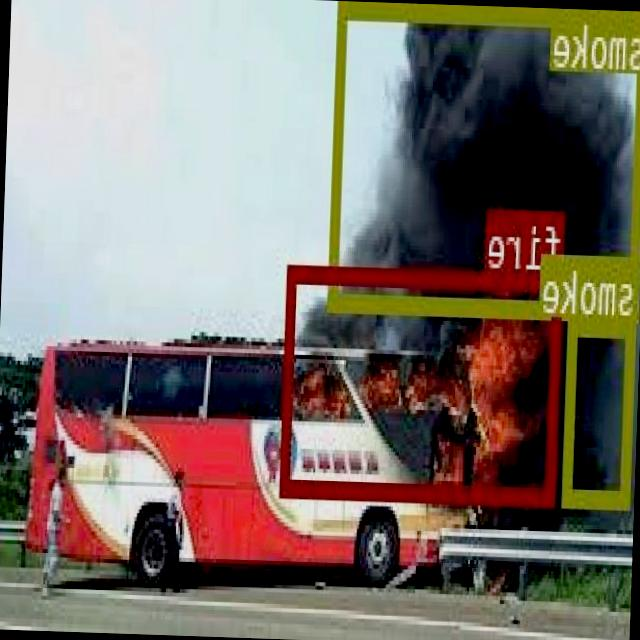fire: (283, 261, 564, 502)
smoke: (331, 0, 640, 315), (564, 315, 638, 503)
